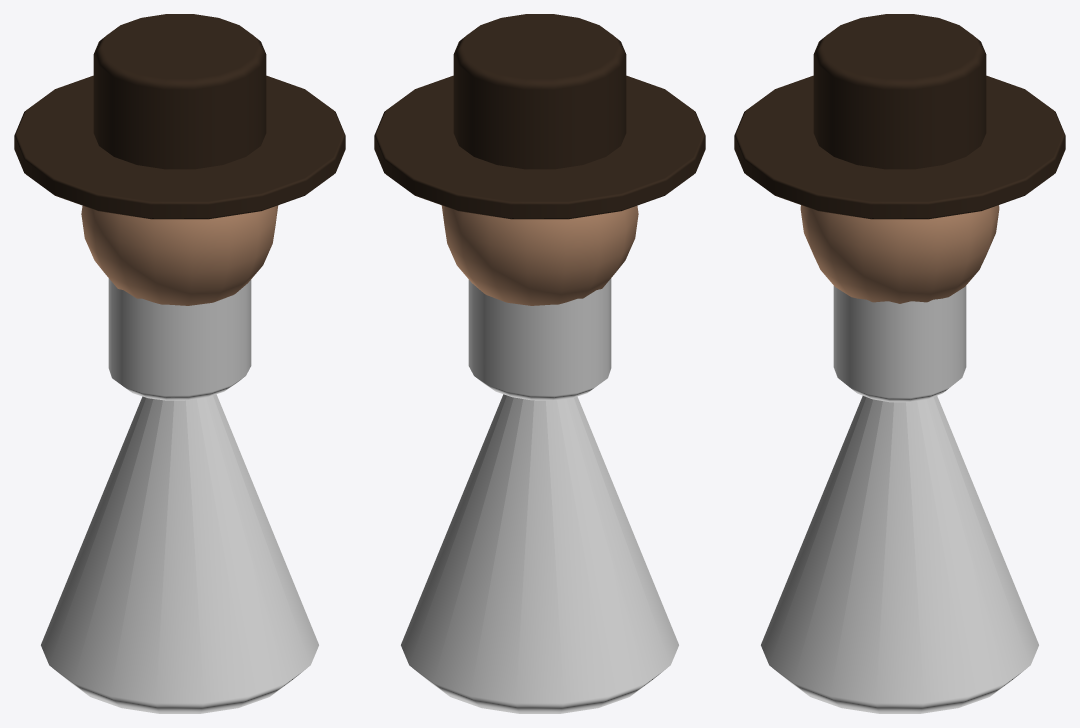
Rendered from wide-hat.49906f4d.glb.
3 renders of one model, left to right at view 1: azimuth 30°, elevation 25°; view 2: azimuth 150°, elevation 25°; view 3: azimuth 270°, elevation 25°, orthographic.
Parts seen in each view (by area): view 1: accent, body; view 2: accent, body; view 3: accent, body.
Part boxes in pixels (<box>): accent: <box>41,278,318,713</box>; body: <box>14,14,345,305</box>; accent: <box>401,278,678,713</box>; body: <box>374,14,705,305</box>; accent: <box>761,286,1038,713</box>; body: <box>734,14,1065,303</box>.
Bounding box in the file's own units: 0.4924 × 1.03 × 0.5.
